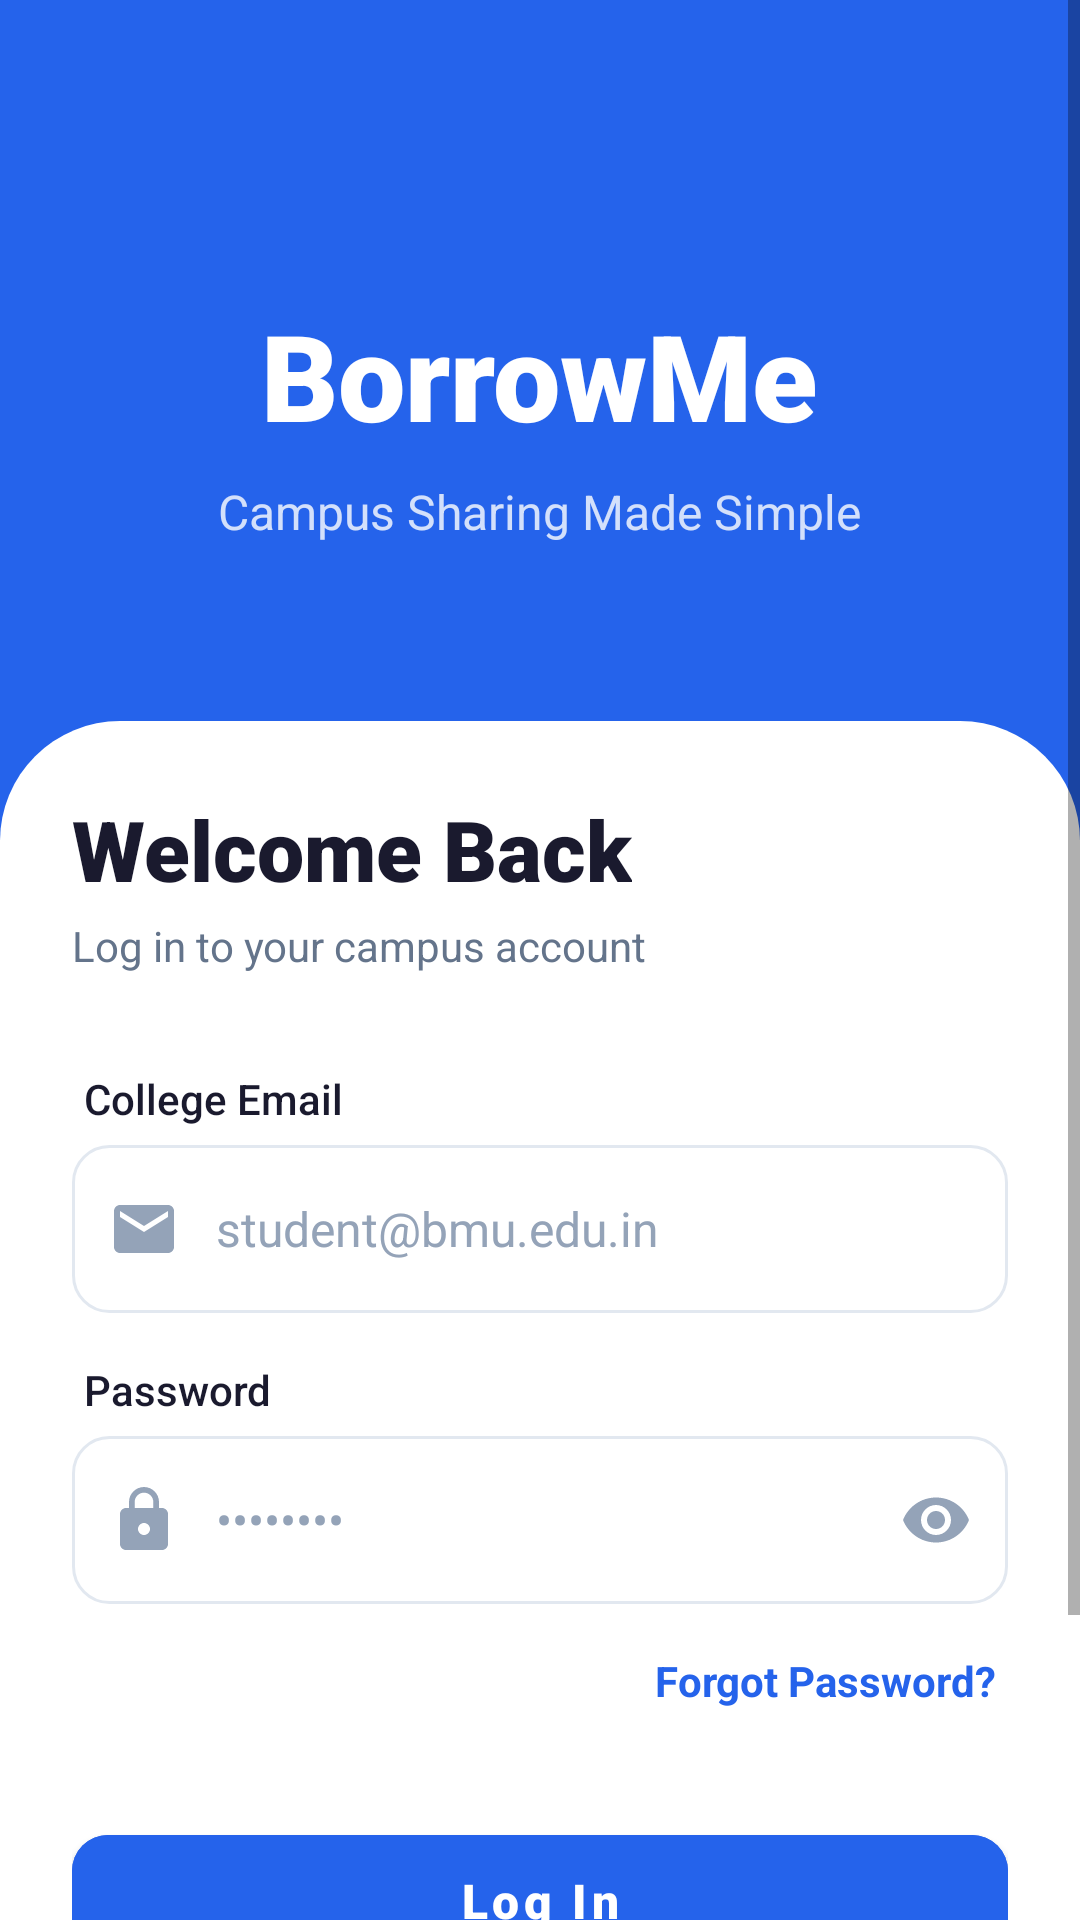

Point at icon controls on the screen. Image size 1080*1920, points as (x=x, y=y).
lock: (x=144, y=1518)
visibility: (x=936, y=1520)
